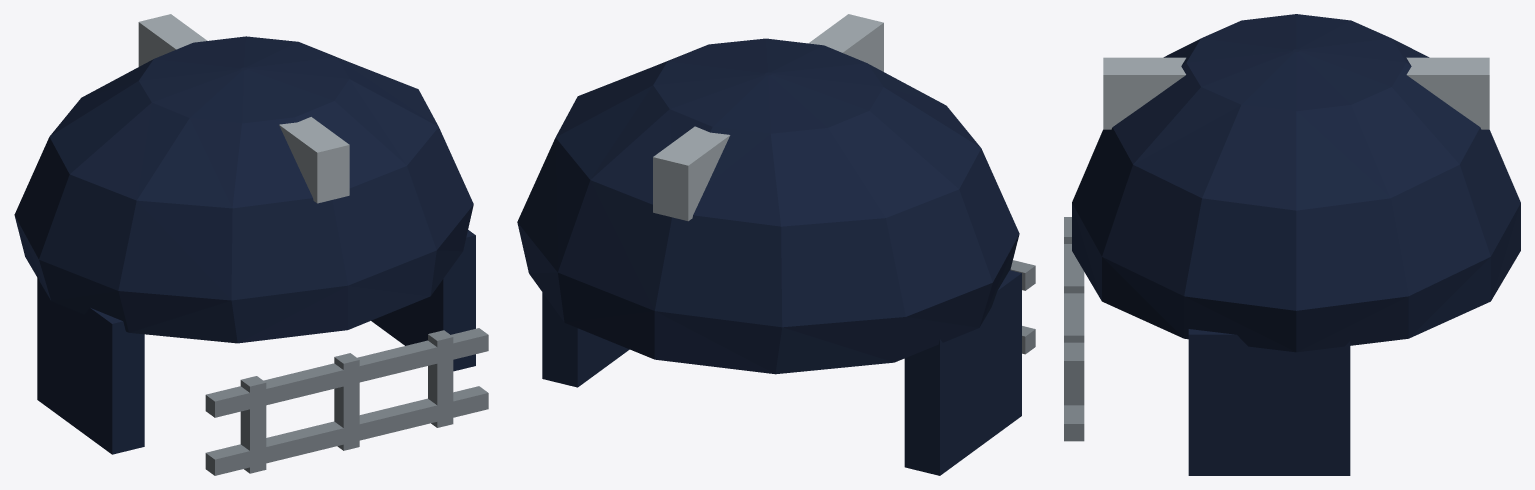
The model's file is gridhelm.glb.
3 renders of one model, left to right at view 1: azimuth 30°, elevation 25°; view 2: azimuth 150°, elevation 25°; view 3: azimuth 270°, elevation 25°, orthographic. The views are drawn at different scales.
Visible parts, largest first — view 1: Grid Helm.002; view 2: Grid Helm.002; view 3: Grid Helm.002.
Boxes of the visible parts, bbox=[...] form: Grid Helm.002: bbox=[14, 14, 488, 475]; Grid Helm.002: bbox=[517, 14, 1035, 475]; Grid Helm.002: bbox=[1064, 14, 1520, 475].
Size of the model in its own units: 0.7524 by 0.5342 by 0.6716.
